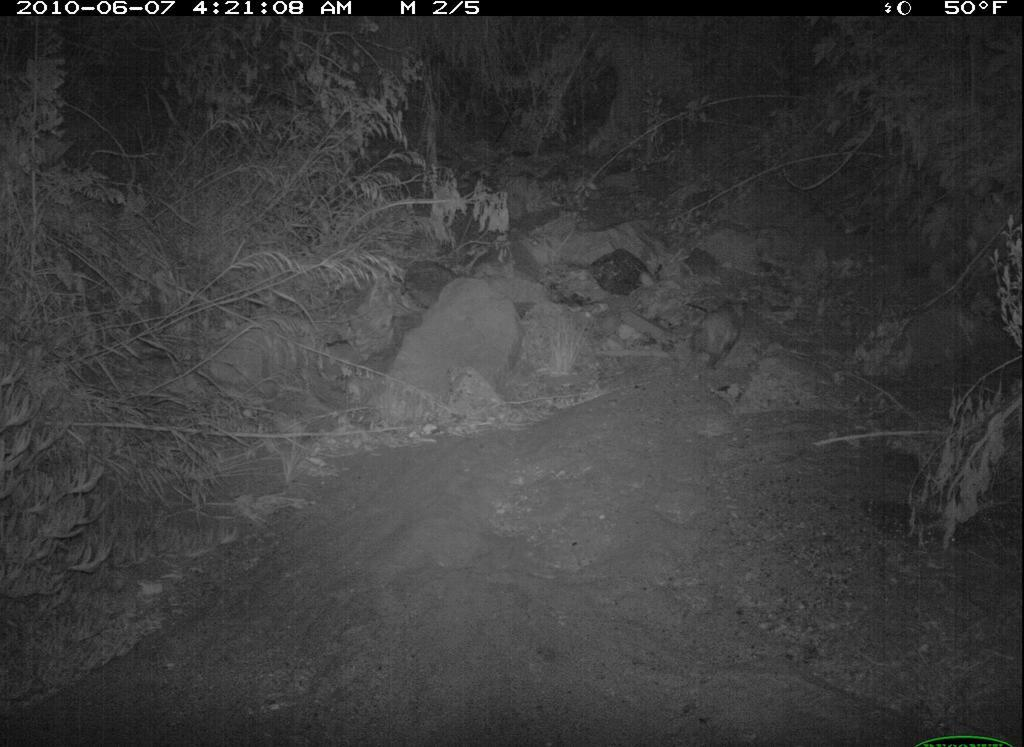opossum: (676, 286, 770, 387)
